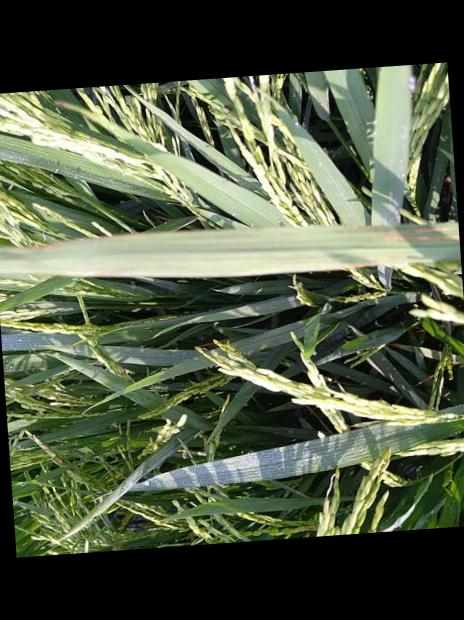Leaf Streak: (281, 254, 431, 272), (348, 227, 460, 243)
